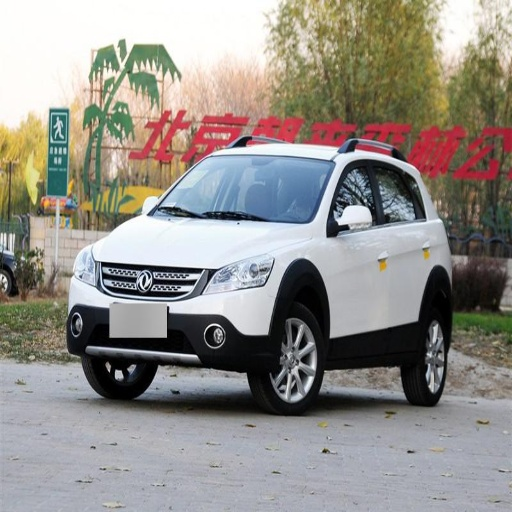front_bumper: (67, 261, 279, 373)
front_glass: (146, 156, 335, 223)
front_left_door: (326, 157, 389, 355)
